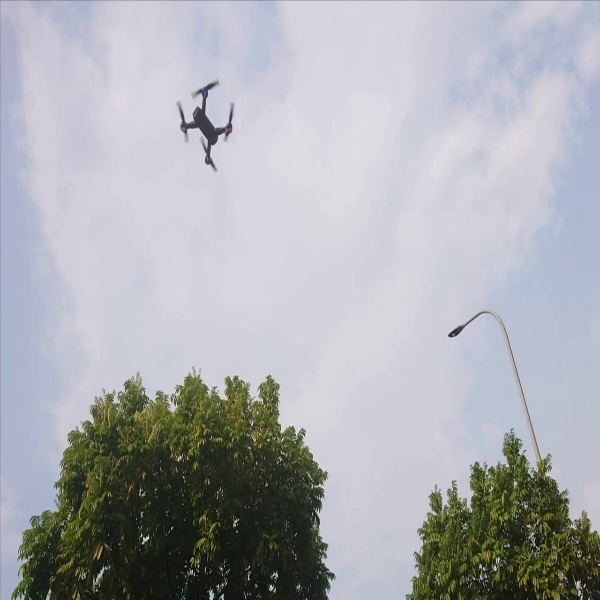drone: (168, 77, 237, 170)
